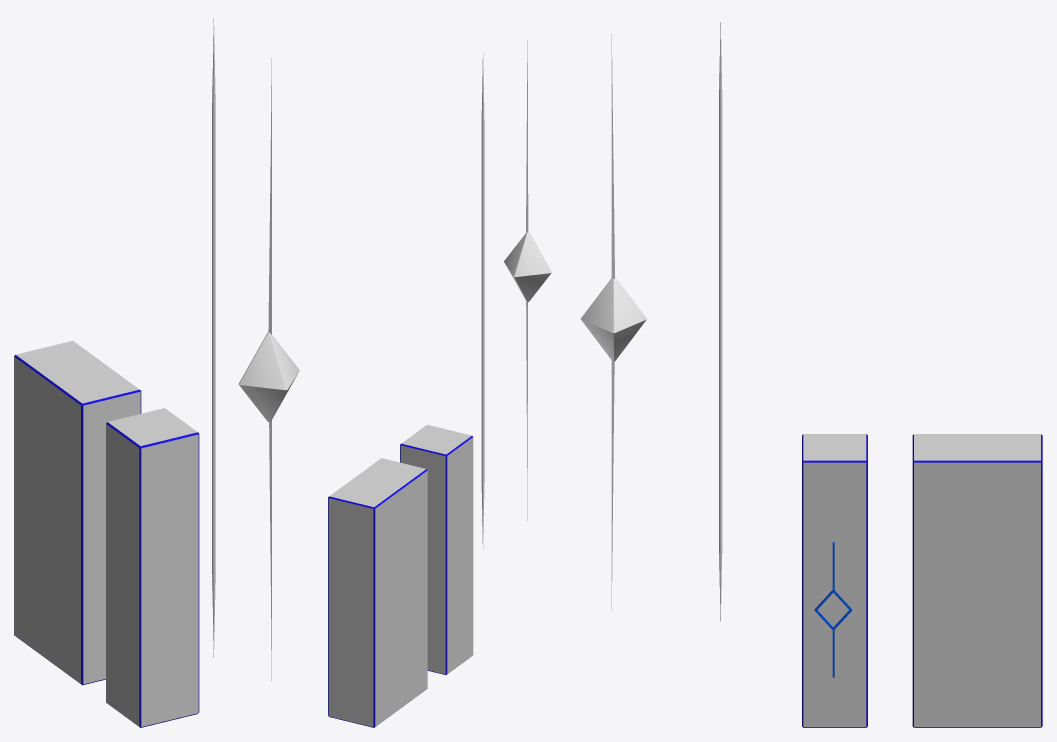
The model's file is Neon buildings.fbx.
3 renders of one model, left to right at view 1: azimuth 30°, elevation 25°; view 2: azimuth 150°, elevation 25°; view 3: azimuth 270°, elevation 25°, orthographic. The views are drawn at different scales.
Parts seen in each view (by area): view 1: Cube.006, Cube.005, Cone.002, Cylinder.001, Cylinder; view 2: Cube.006, Cube.005, Cone.002, Cylinder.001, Cylinder; view 3: Cube.006, Cube.005, Cone.002, Cylinder.001, Cylinder.
Part boxes in pixels (x1,y1,x2,y2): Cube.006: [14, 340, 141, 685]; Cube.005: [106, 408, 199, 727]; Cone.002: [238, 332, 299, 422]; Cylinder.001: [212, 18, 215, 657]; Cylinder: [268, 58, 271, 681]; Cube.006: [328, 458, 427, 727]; Cube.005: [400, 424, 473, 674]; Cone.002: [504, 232, 551, 301]; Cylinder.001: [481, 52, 484, 549]; Cylinder: [526, 40, 528, 521]; Cube.006: [912, 434, 1042, 727]; Cube.005: [802, 434, 867, 727]; Cone.002: [580, 277, 646, 361]; Cylinder.001: [719, 22, 722, 621]; Cylinder: [611, 34, 614, 610].
Bounding box in the file's own units: 209 × 2344 × 1400.
